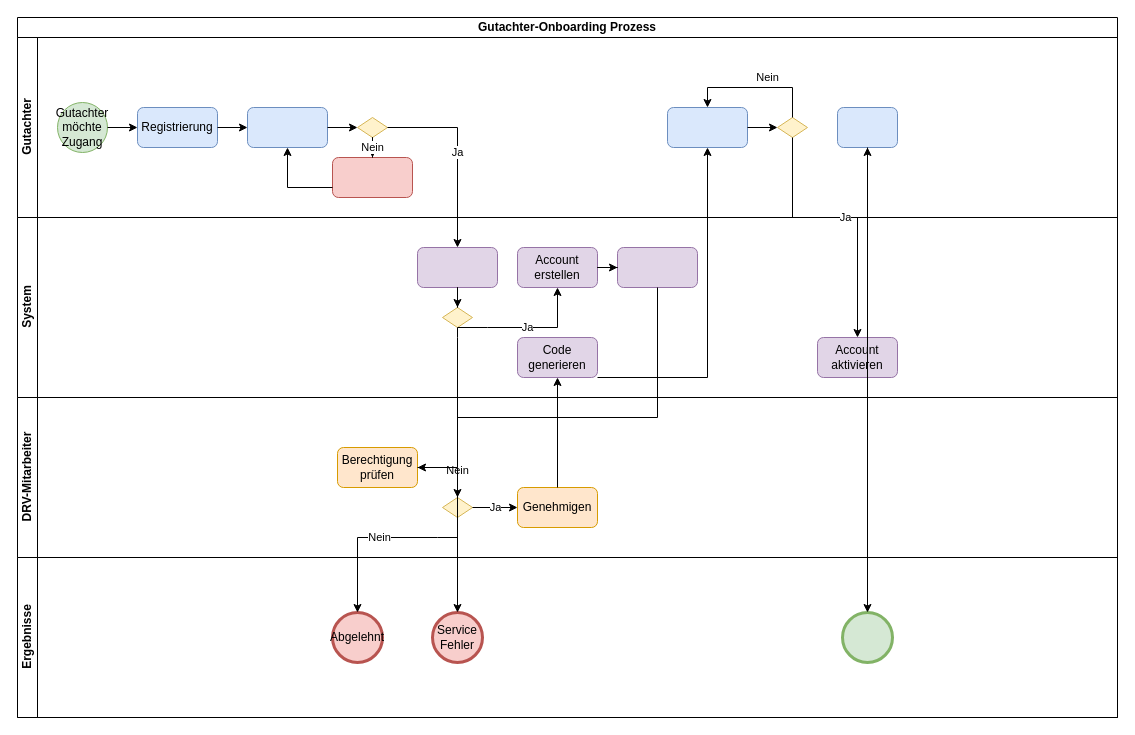
The diagram is 1135 pixels wide and 735 high, and some of its shapes have lost their labels. Each missing label, with the centre of its shape:
Account aktiv: the point at 867,637
Code eingeben: the point at 707,127
DRV benachrichtigen: the point at 657,267
eLogin/rvSMD Validierung: the point at 457,267
Fehlermeldung: the point at 372,177
Formular ausfüllen: the point at 287,127
Passwort: the point at 867,127
